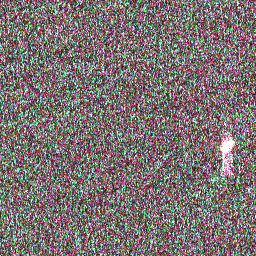ship: (217, 136, 236, 155)
